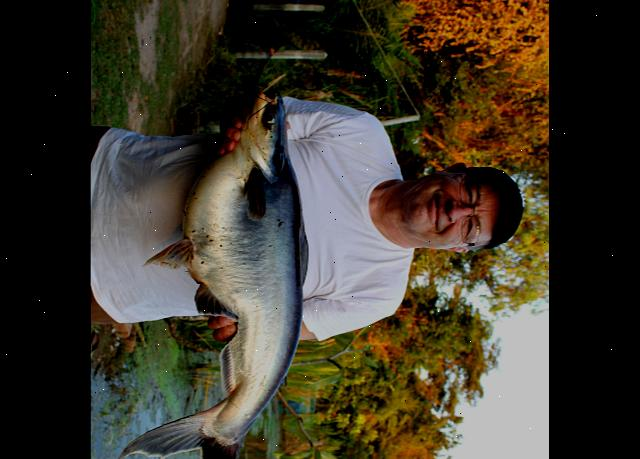Mulut: (248, 82, 289, 110)
Sirip Anal: (183, 281, 256, 400)
Sirip Dada: (238, 163, 272, 218)
Sirip Ekor: (111, 407, 259, 459)
Sirip Perut: (146, 232, 202, 272)
Sirip Punggung: (289, 214, 322, 287)
